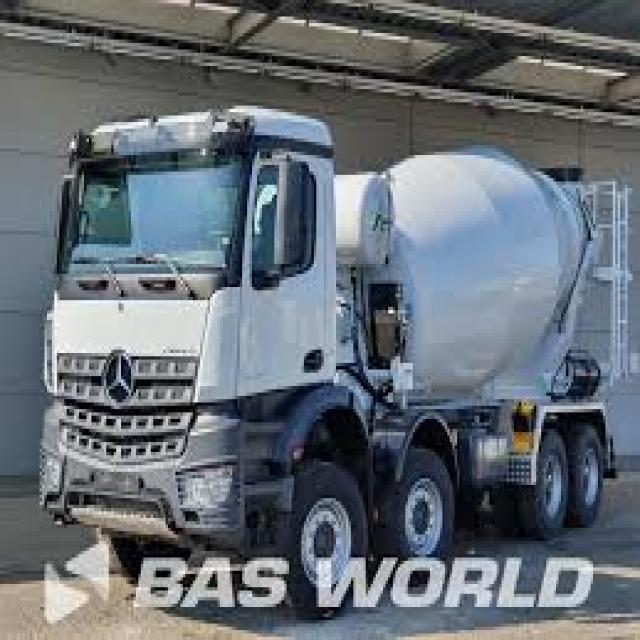Mixer Truck: (37, 101, 636, 613)
